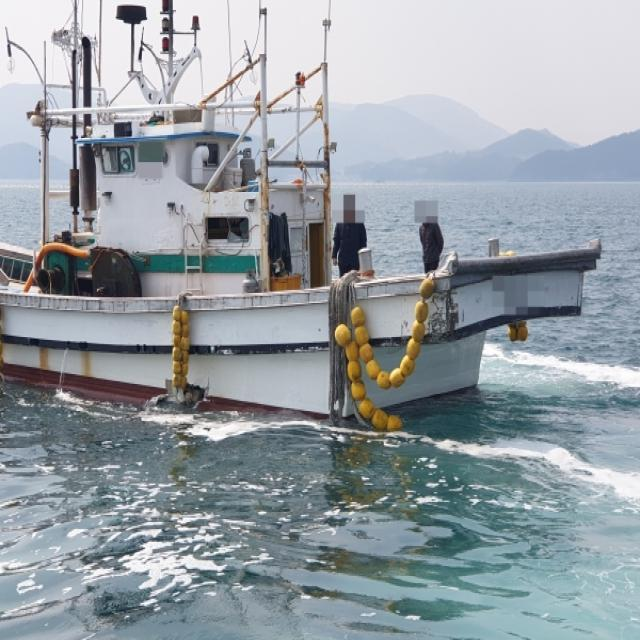Ship: (1, 1, 611, 455)
